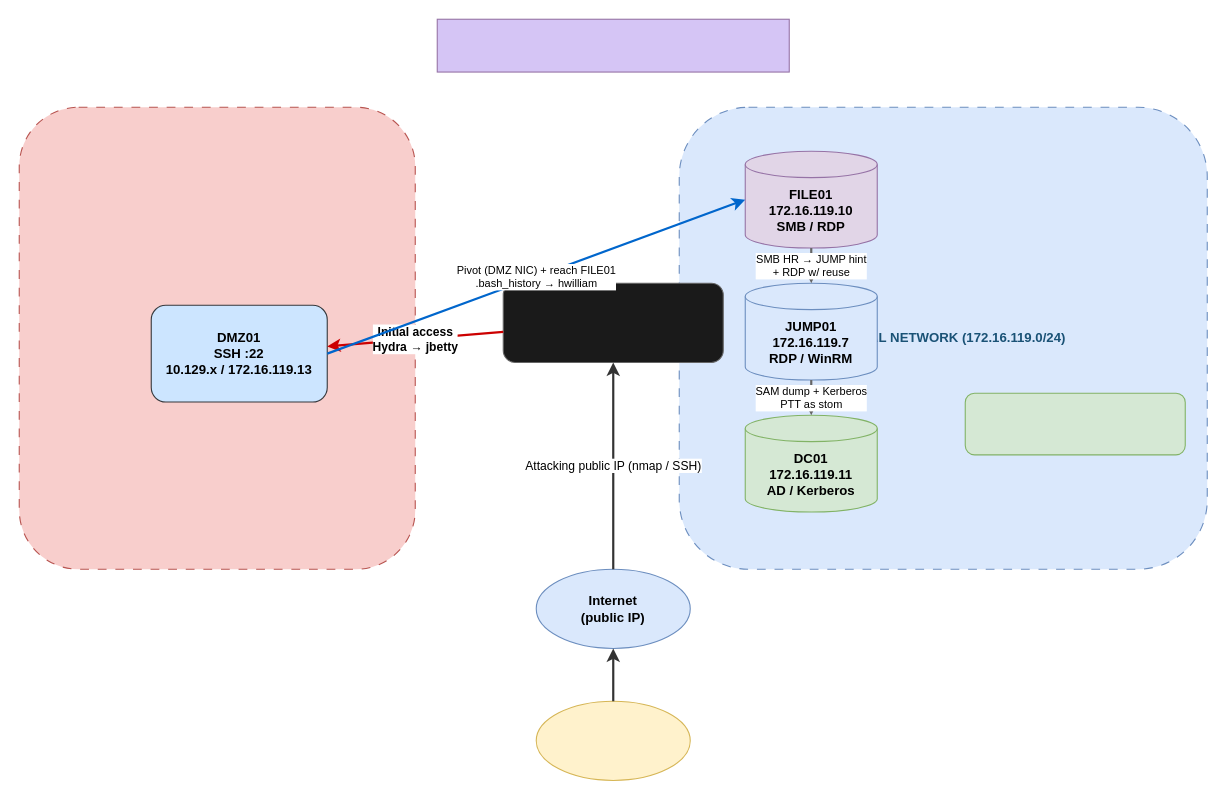
Some shapes in this 1227 by 800 pixel diagram are drawn without their labels. Here are the shapes that lost their labels. From the top down, the centre of each, then its label:
At point (612, 45): "Nexura LLC".
At point (612, 322): "Firewall / Router".
At point (1074, 423): "Goal: command execution / domain admin on DC01".
At point (612, 740): "Attacker (Kali)".
